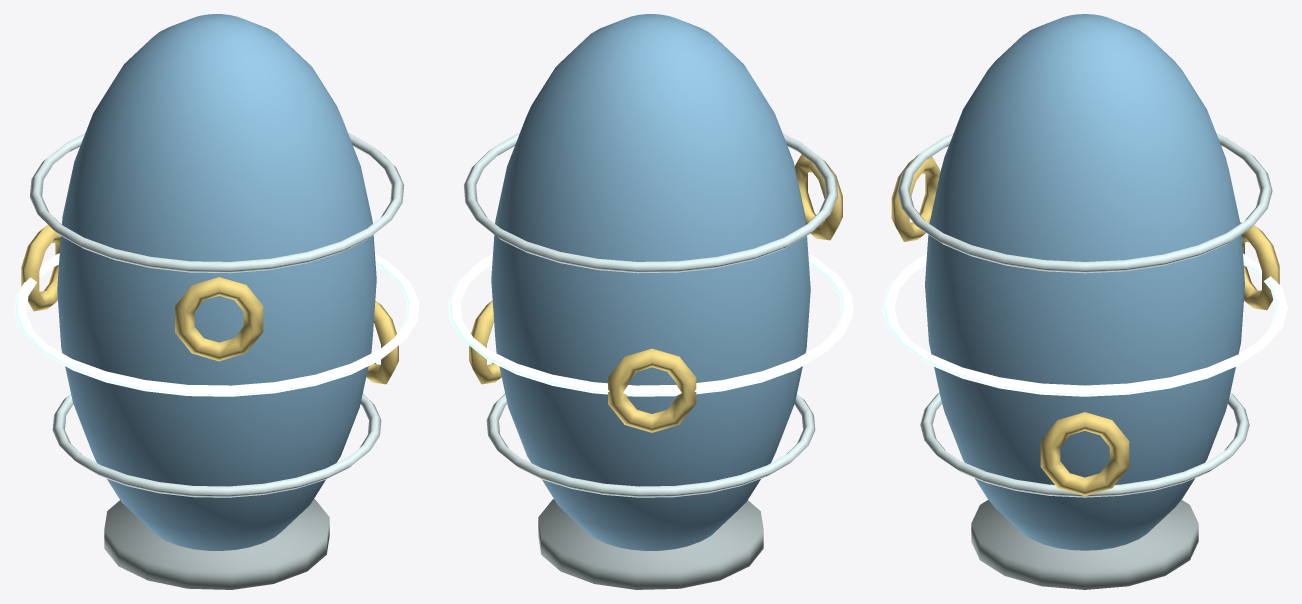
The model's file is egg_lake_01.glb.
3 views of the same model, side by side, from view 1: azimuth 30°, elevation 25°; view 2: azimuth 150°, elevation 25°; view 3: azimuth 270°, elevation 25° (orthographic).
Visible parts, largest first — view 1: ball; view 2: ball; view 3: ball.
Part boxes in pixels (box(x1,y1,x2,y2)): ball: box(14, 14, 419, 589); ball: box(448, 14, 853, 589); ball: box(882, 14, 1287, 589).
Size of the model in its own units: 0.7862 by 1.12 by 0.7862.
